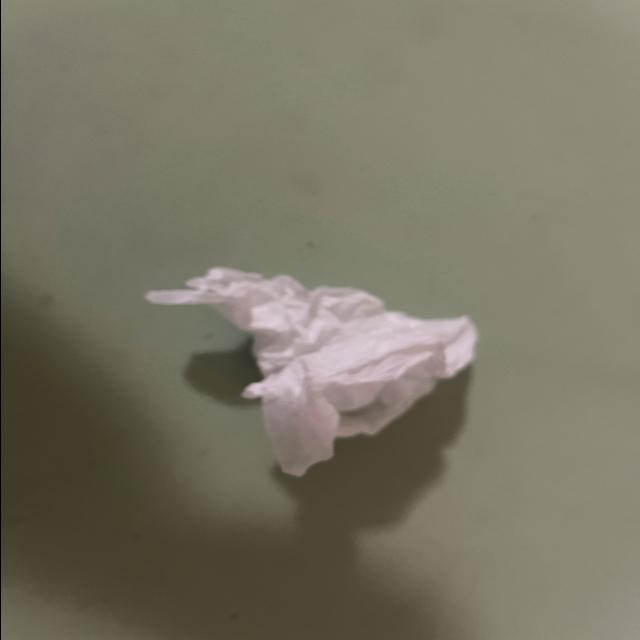Paper: (148, 259, 486, 471)
